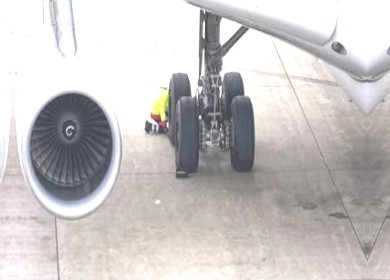chock: (173, 165, 190, 179)
wheel: (229, 92, 255, 172), (174, 92, 198, 176), (168, 72, 191, 147), (221, 70, 243, 119)
